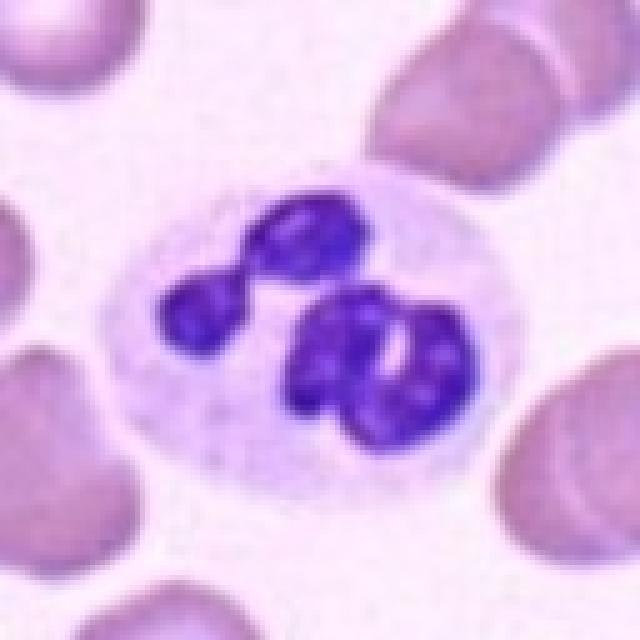neutro: (47, 137, 494, 536)
